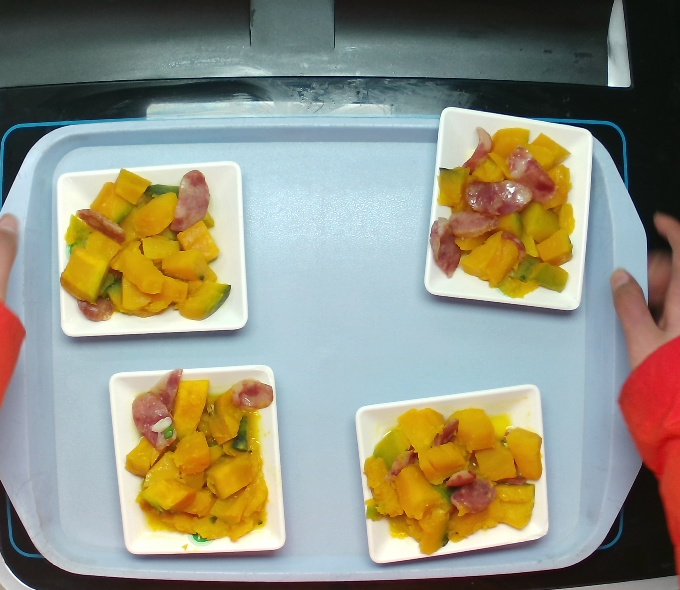wcq-NanGuaChaoXiangChang: (365, 387, 533, 576), (115, 369, 281, 549), (434, 125, 582, 297), (61, 172, 228, 315)
